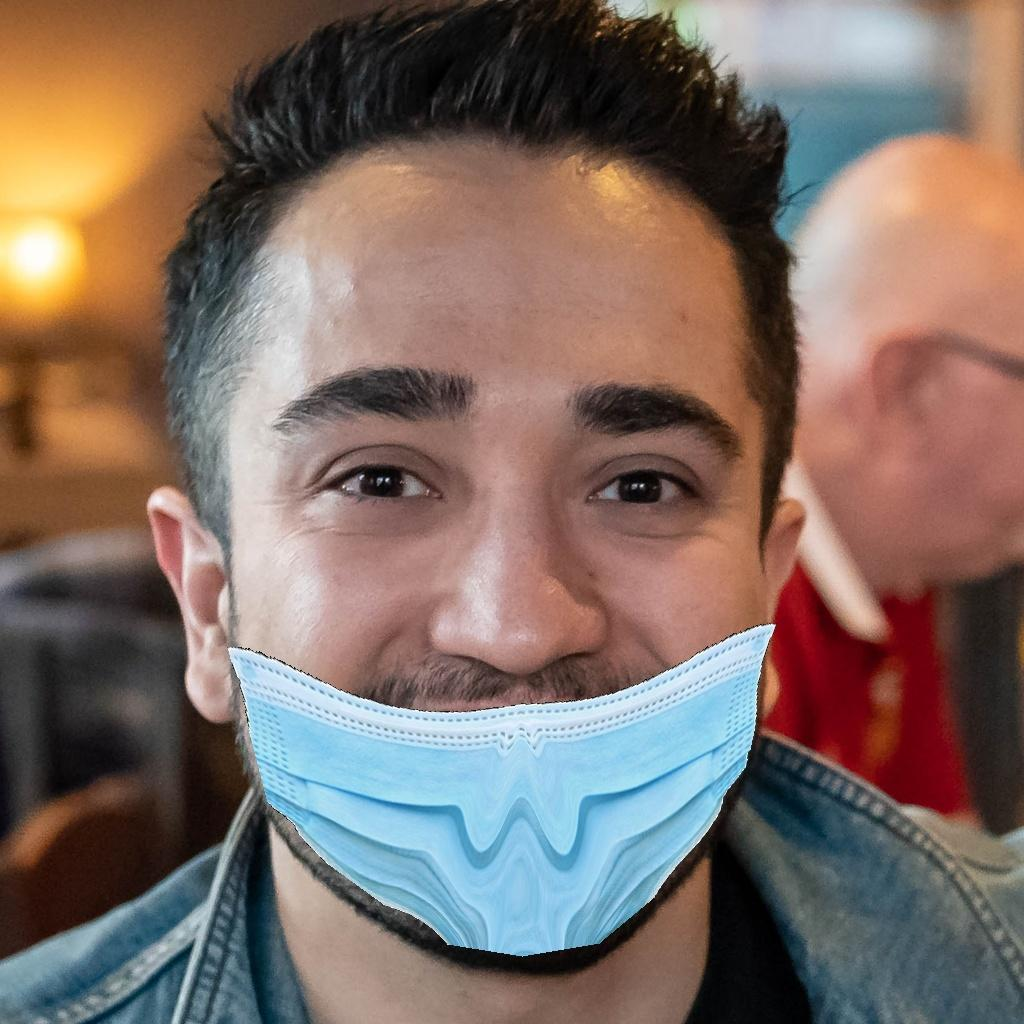Máscara Incorreta: (212, 273, 775, 916)
